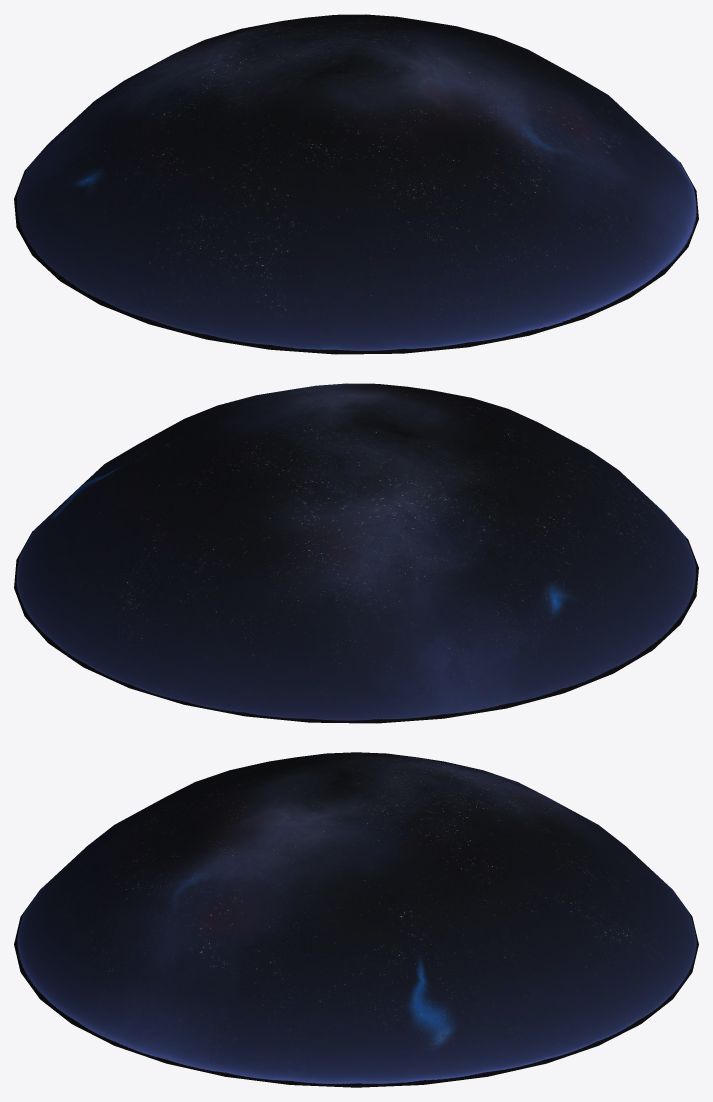
Rendered from sky_night.obj.
3 views of the same model, one above another, from view 1: azimuth 30°, elevation 25°; view 2: azimuth 150°, elevation 25°; view 3: azimuth 270°, elevation 25° (orthographic).
Parts seen in each view (by area): view 1: Sphere; view 2: Sphere; view 3: Sphere.
Part boxes in pixels (x1=…): Sphere: x1=14, y1=14, x2=698, y2=354; Sphere: x1=14, y1=383, x2=698, y2=723; Sphere: x1=14, y1=752, x2=698, y2=1087.
Bounding box in the file's own units: 60.09 × 14.92 × 60.75.
1 material, 1 textured.
